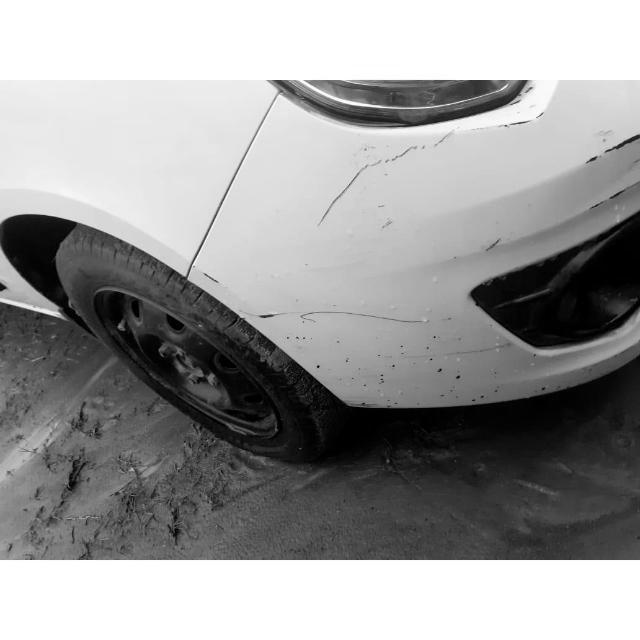front-bumper-dent: (263, 103, 640, 413)
